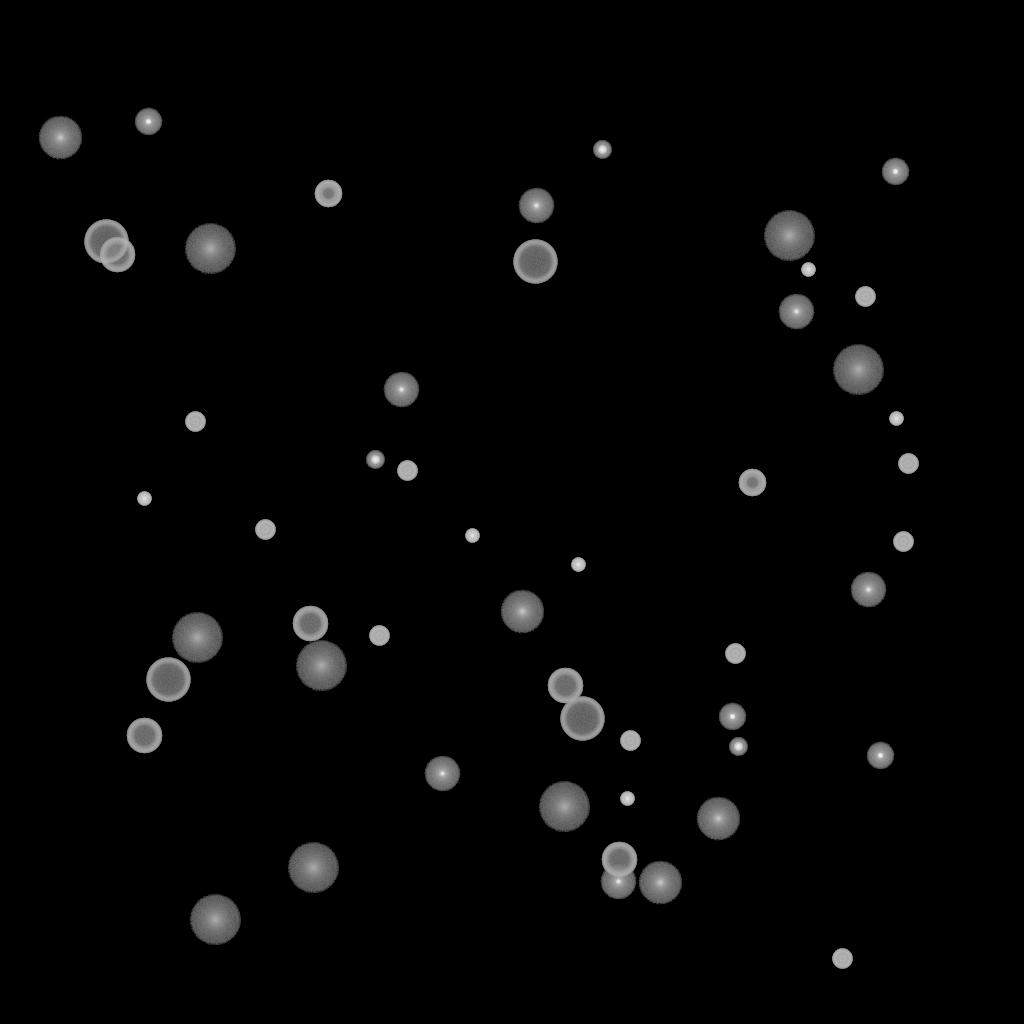depth:-10: (134, 108, 162, 136), (718, 703, 746, 731), (866, 742, 894, 770), (881, 158, 909, 186)
depth:-20: (366, 451, 384, 469), (593, 141, 611, 159), (729, 738, 747, 756)
depth:-30: (801, 263, 815, 277), (137, 492, 151, 506), (465, 529, 479, 543), (571, 558, 585, 572), (889, 412, 903, 426), (620, 792, 634, 806)
depth:-40: (898, 454, 918, 474), (893, 532, 913, 552), (832, 949, 852, 969), (725, 644, 745, 664), (397, 461, 417, 481), (855, 287, 875, 307), (369, 626, 389, 646), (620, 731, 640, 751), (255, 520, 275, 540), (185, 412, 205, 432)
depth:-50: (738, 469, 766, 497), (314, 180, 342, 208)
depth:-60: (292, 606, 328, 642), (601, 842, 637, 878), (126, 718, 162, 754), (99, 237, 135, 273), (547, 668, 583, 704)
depth:-70: (513, 240, 557, 284), (146, 658, 190, 702), (560, 697, 604, 741), (84, 220, 128, 264)
depth:0: (778, 294, 814, 330), (518, 188, 554, 224), (383, 372, 419, 408), (600, 864, 636, 900), (850, 572, 886, 608), (424, 756, 460, 792)
depth:10: (638, 861, 682, 905), (38, 116, 82, 160), (500, 590, 544, 634), (696, 797, 740, 841)
depth:20: (189, 895, 241, 945), (763, 211, 815, 261), (538, 782, 590, 832), (832, 345, 884, 395), (295, 641, 347, 691), (184, 224, 236, 274), (287, 843, 339, 893), (171, 613, 223, 663)
